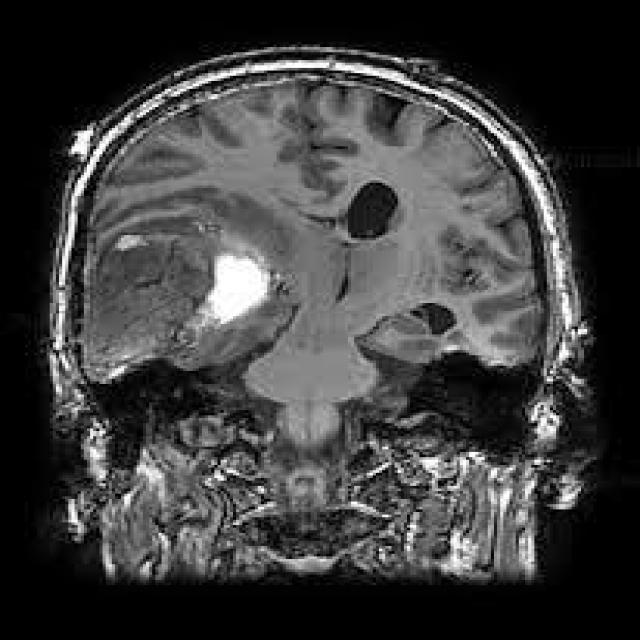Tumor: (208, 256, 270, 323)
